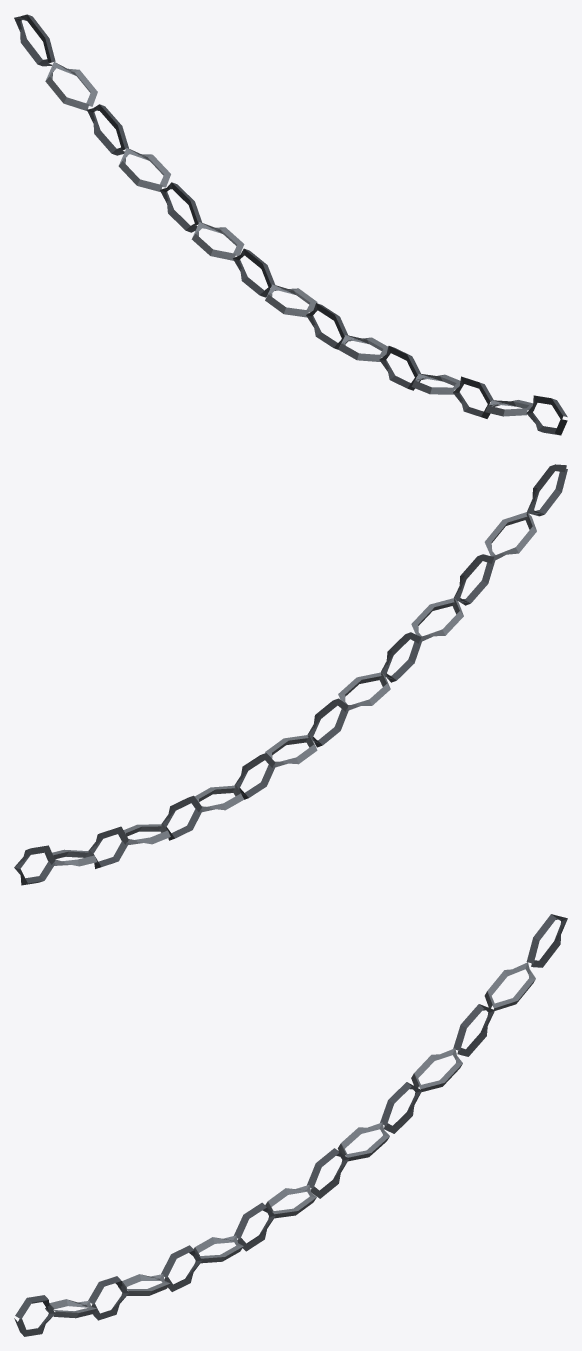
Rendered from dk_chain.glb.
3 views of the same model, one above another, from view 1: azimuth 30°, elevation 25°; view 2: azimuth 150°, elevation 25°; view 3: azimuth 330°, elevation 25° (orthographic).
Parts seen in each view (by area): view 1: dk_chain; view 2: dk_chain; view 3: dk_chain.
Part boxes in pixels (box(x1,y1,x2,y2)): dk_chain: box(14, 14, 567, 435); dk_chain: box(14, 464, 567, 885); dk_chain: box(14, 914, 567, 1336).
Bounding box in the file's own units: 0.4639 × 1.47 × 13.
1 material, 1 textured.
